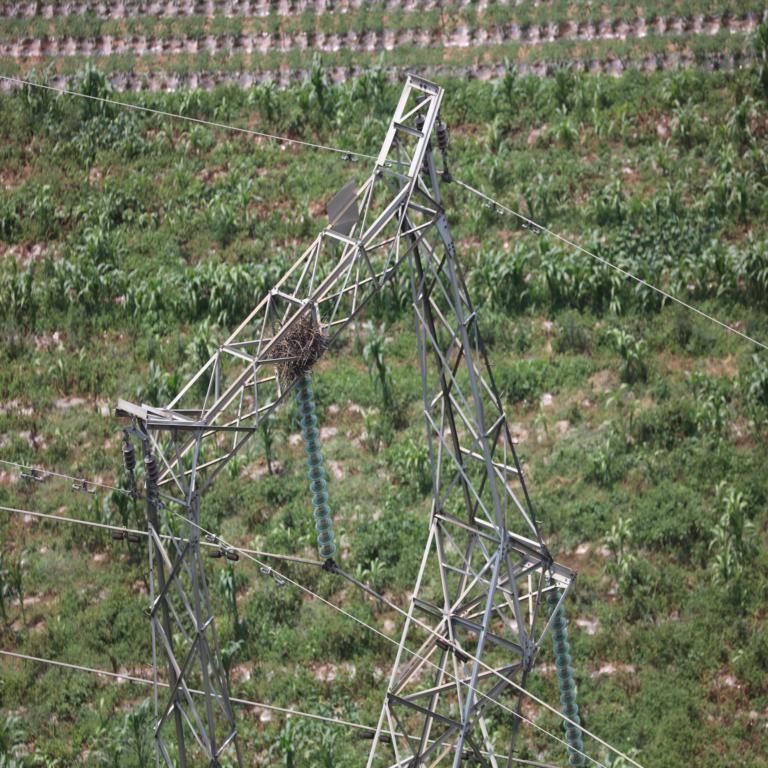nest: (268, 319, 323, 373)
